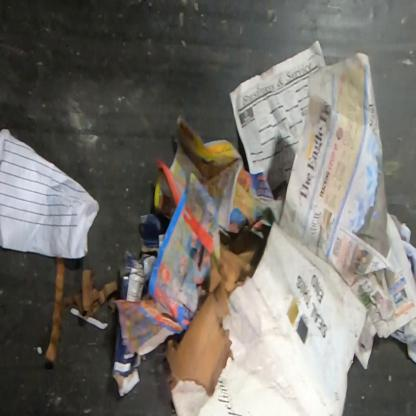cardboard: (169, 219, 377, 415), (162, 224, 258, 396), (44, 258, 118, 368), (118, 213, 166, 302), (112, 320, 142, 397)
